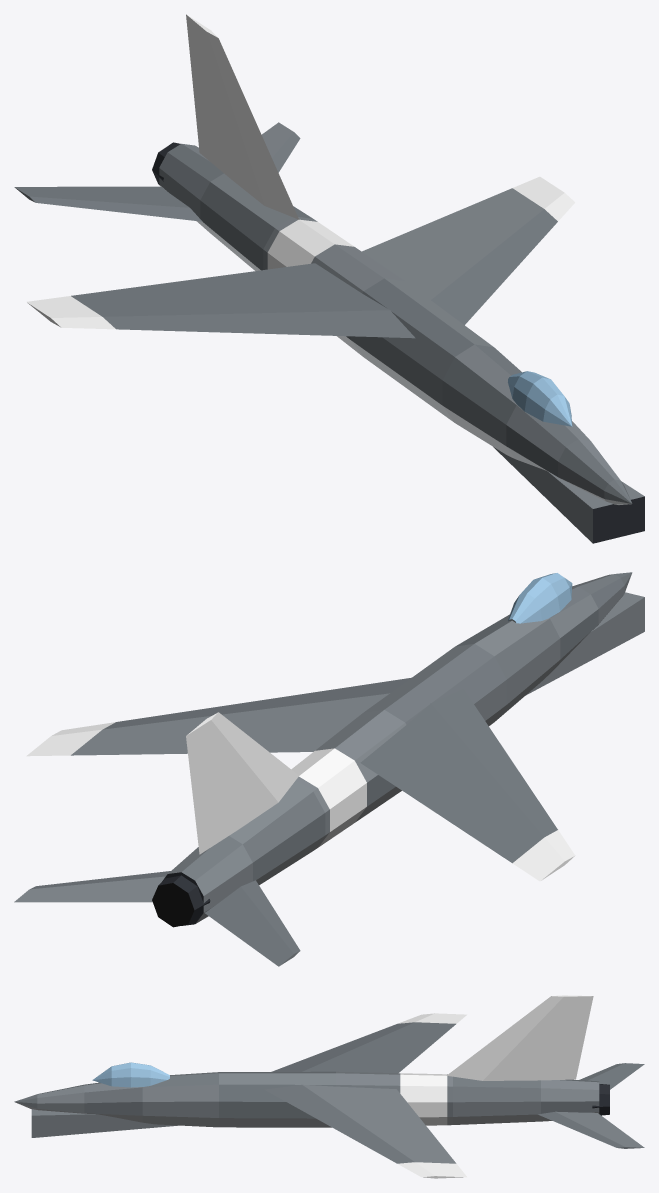
The picture shows the model from 3 angles, top to bottom: view 1: azimuth 30°, elevation 25°; view 2: azimuth 150°, elevation 25°; view 3: azimuth 270°, elevation 25°; orthographic projection. The views are drawn at different scales.
Parts seen in each view (by area): view 1: body; view 2: body; view 3: body.
Boxes of the visible parts, x1,y1,x2,y2 form: body: (14,14,644,543); body: (14,572,644,966); body: (14,995,644,1178).
Bounding box in the file's own units: 10.87 × 4.17 × 17.82.
